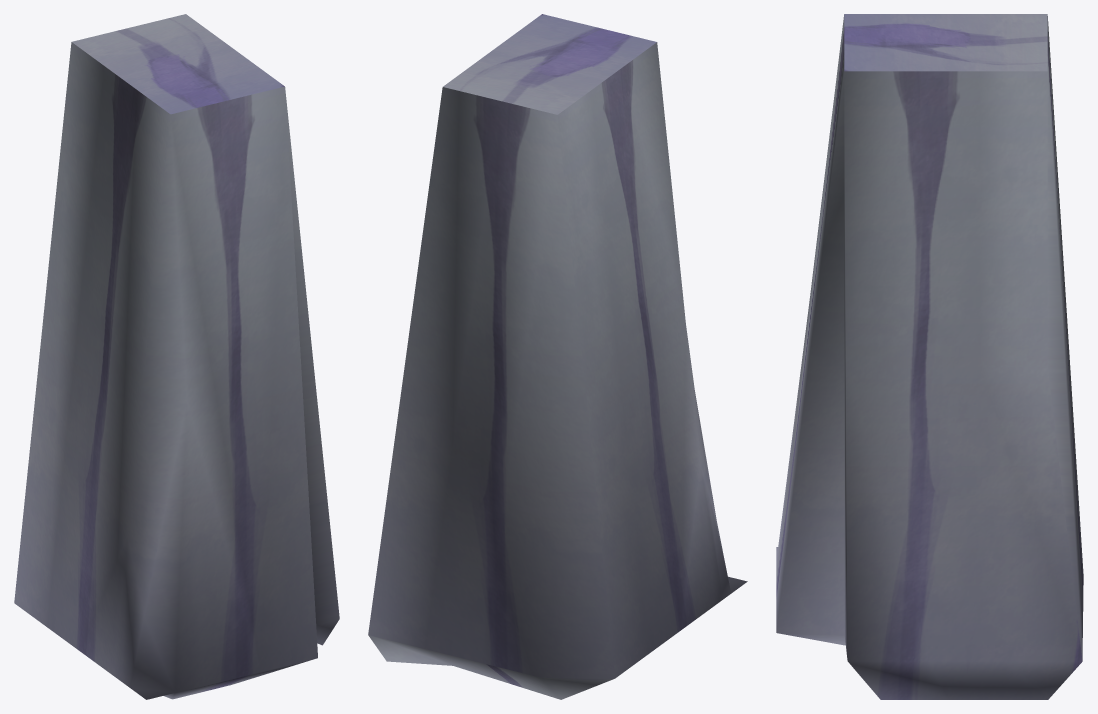
The model's file is rockeroo_small_bald_evil.glb.
The picture shows the model from 3 angles, left to right: view 1: azimuth 30°, elevation 25°; view 2: azimuth 150°, elevation 25°; view 3: azimuth 270°, elevation 25°; orthographic projection. The views are drawn at different scales.
Parts seen in each view (by area): view 1: rockeroo_small_bald.001; view 2: rockeroo_small_bald.001; view 3: rockeroo_small_bald.001.
Boxes of the visible parts, <box> form: rockeroo_small_bald.001: <box>14,14,339,699</box>; rockeroo_small_bald.001: <box>368,14,747,699</box>; rockeroo_small_bald.001: <box>776,14,1083,699</box>.
Size of the model in its own units: 8.43 by 21.01 by 9.54.
1 material, 1 textured.
